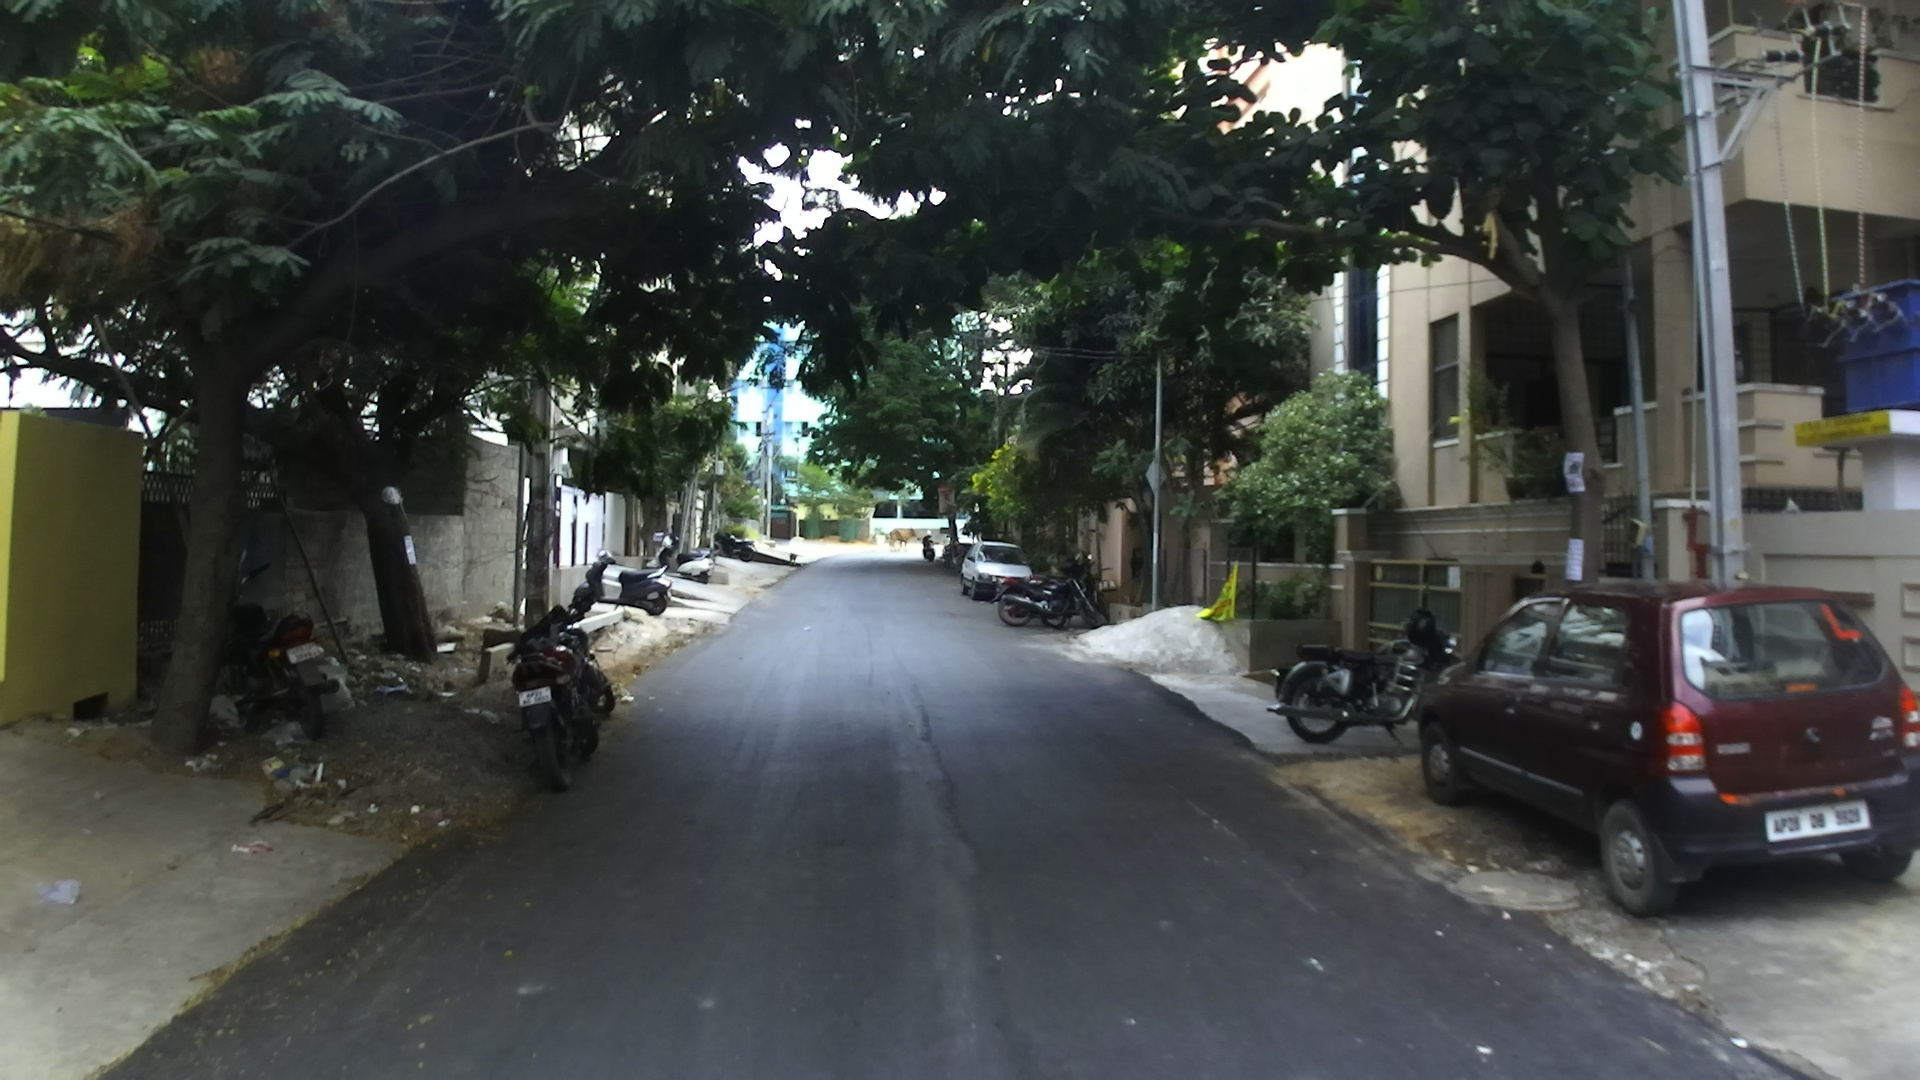vehicle: (1408, 580, 1919, 918), (1274, 611, 1447, 741), (513, 612, 618, 794), (568, 559, 671, 618), (960, 543, 1034, 600)
